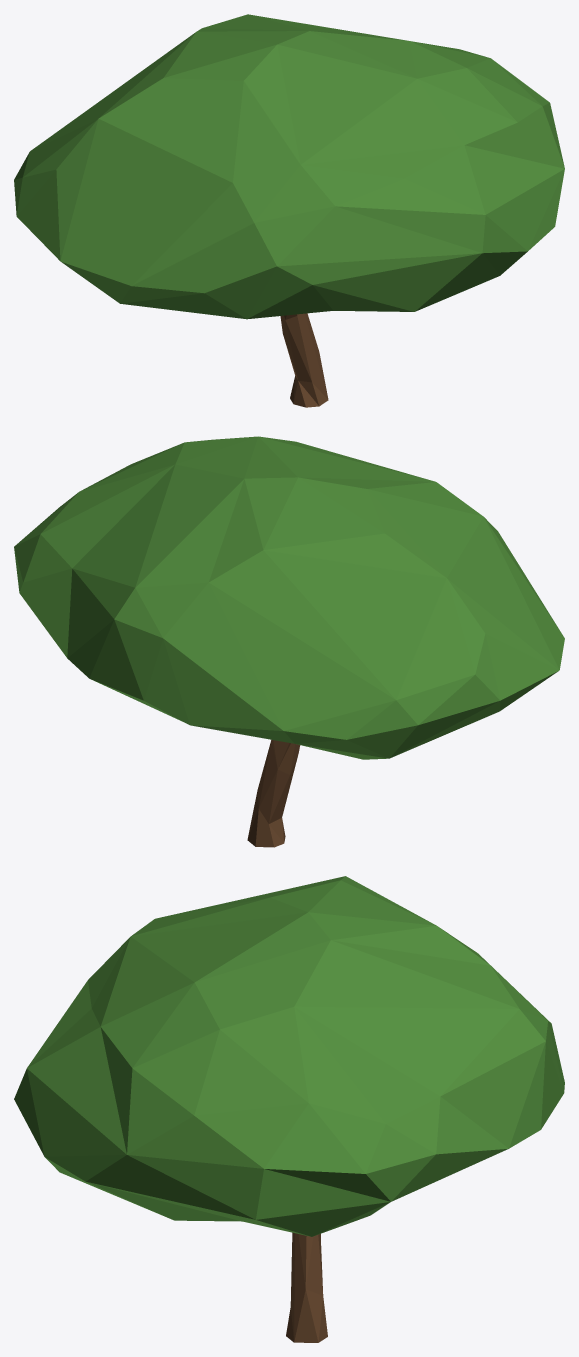
File: shaped-tree-spreading.glb
3 views of the same model, one above another, from view 1: azimuth 30°, elevation 25°; view 2: azimuth 150°, elevation 25°; view 3: azimuth 270°, elevation 25° (orthographic). The views are drawn at different scales.
Parts seen in each view (by area): view 1: leaves_Icosphere.002, trunk_Cube; view 2: leaves_Icosphere.002, trunk_Cube; view 3: leaves_Icosphere.002, trunk_Cube.
Boxes of the visible parts, bbox=[...] form: leaves_Icosphere.002: bbox=[14, 14, 564, 319]; trunk_Cube: bbox=[280, 313, 328, 407]; leaves_Icosphere.002: bbox=[14, 436, 564, 759]; trunk_Cube: bbox=[247, 739, 300, 847]; leaves_Icosphere.002: bbox=[14, 876, 564, 1236]; trunk_Cube: bbox=[286, 1232, 327, 1342].
Size of the model in its own units: 13.62 by 9.58 by 11.77.
